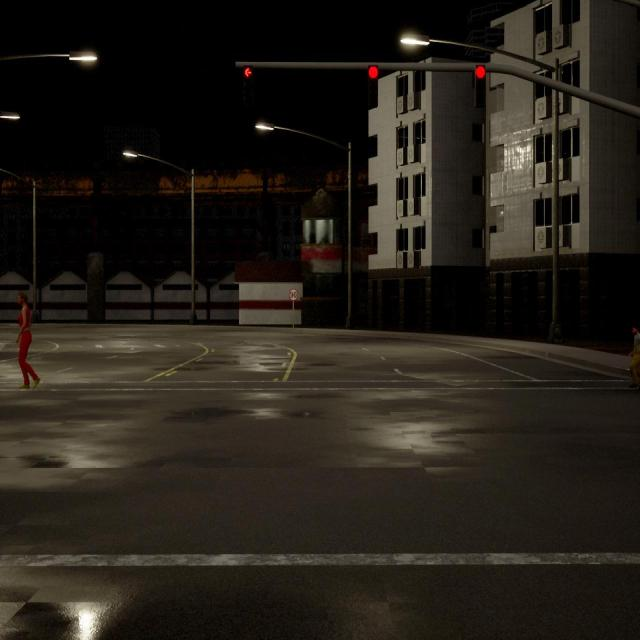Pedestrian: (16, 292, 38, 387), (630, 325, 640, 389)
Traffic_Signs: (289, 289, 297, 299)
traffic_light: (475, 64, 486, 106), (368, 65, 378, 106), (244, 66, 253, 103)
